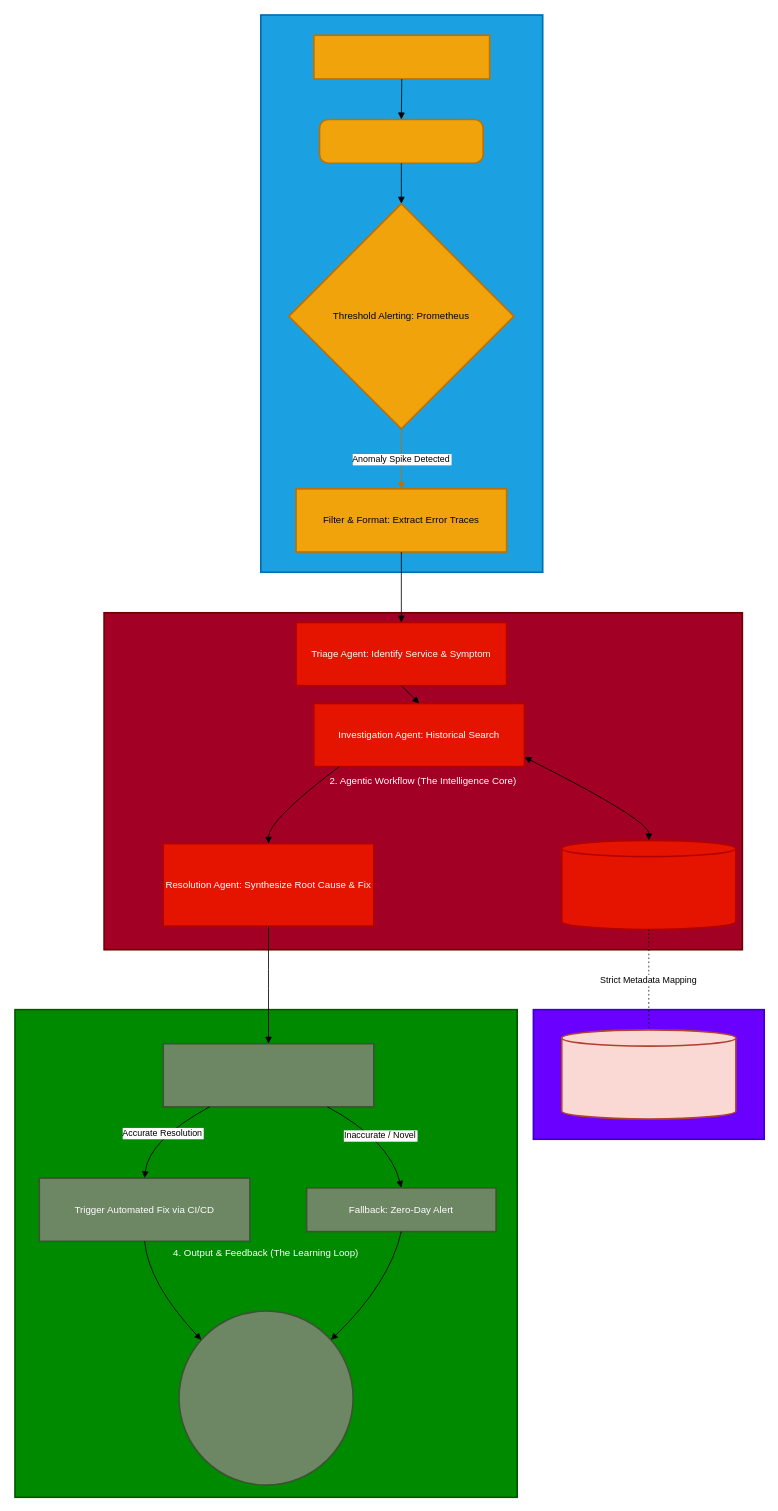
The diagram is 778 pixels wide and 1511 high, and some of its shapes have lost their labels. Here are the shapes that lost their labels. From the top down, the centre of each, then its label:
the point at 401,56: Raw App/Service Logs
the point at 401,141: Log Aggregator: Fluentd
the point at 648,884: VectorDB: Embeddings & Insights
the point at 268,1074: Human Validation: Slack / Dashboard
the point at 648,1074: Relational DB: System State & Metrics
the point at 266,1398: Re-Index Insights to VectorDB
